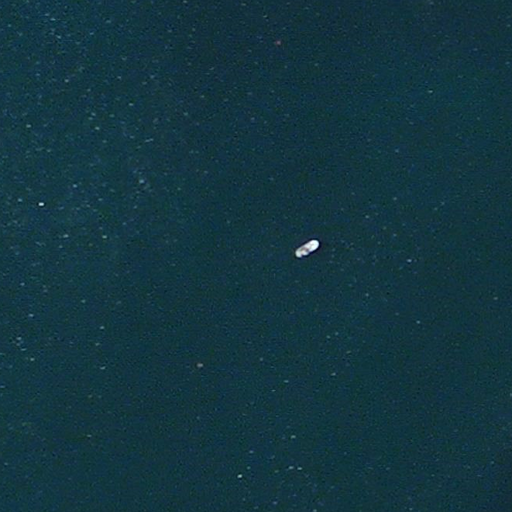ship: (291, 236, 322, 262)
